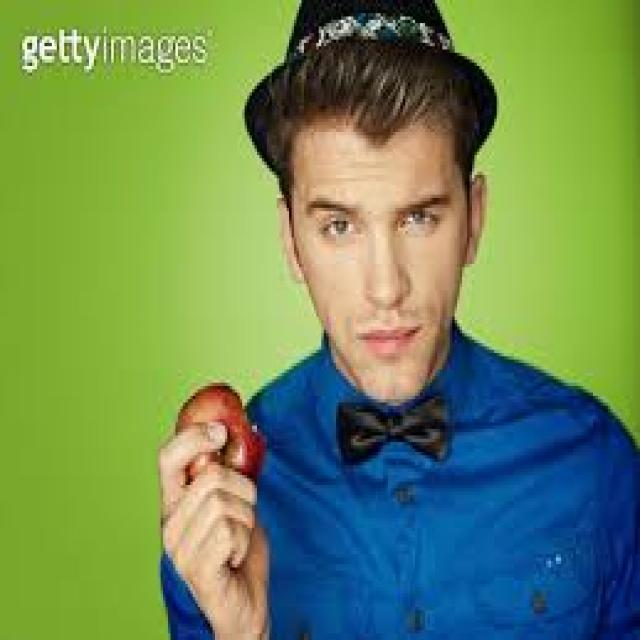hat: (242, 0, 502, 409)
